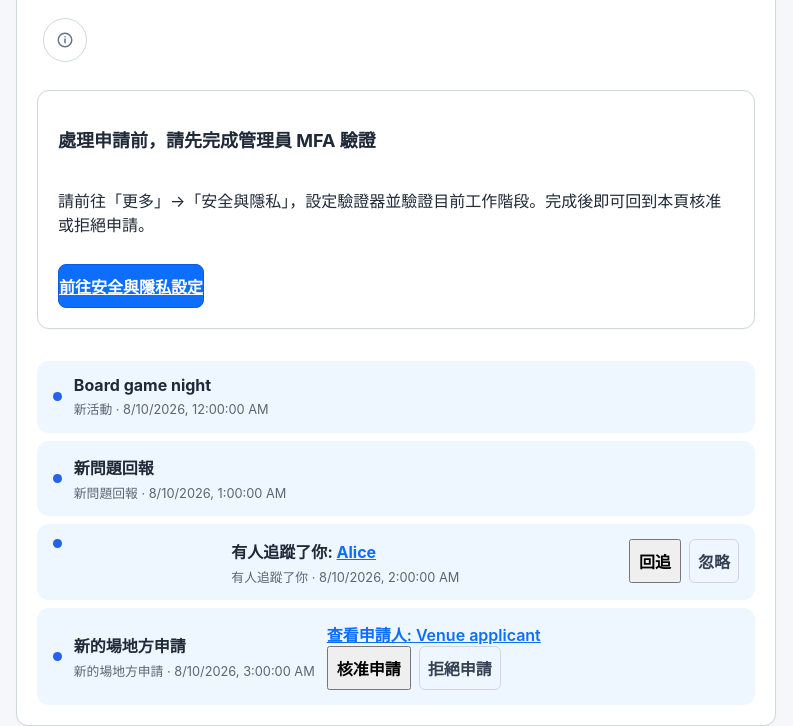
Scenario: NotificationsPage › lets an admin open the applicant profile and approve the application
(page scrolled)
What coordinates should you click on to do the following:
click the button "核准申請"
I would click on:
 (369, 668)
Its box is [327, 646, 411, 690].
(page scrolled)
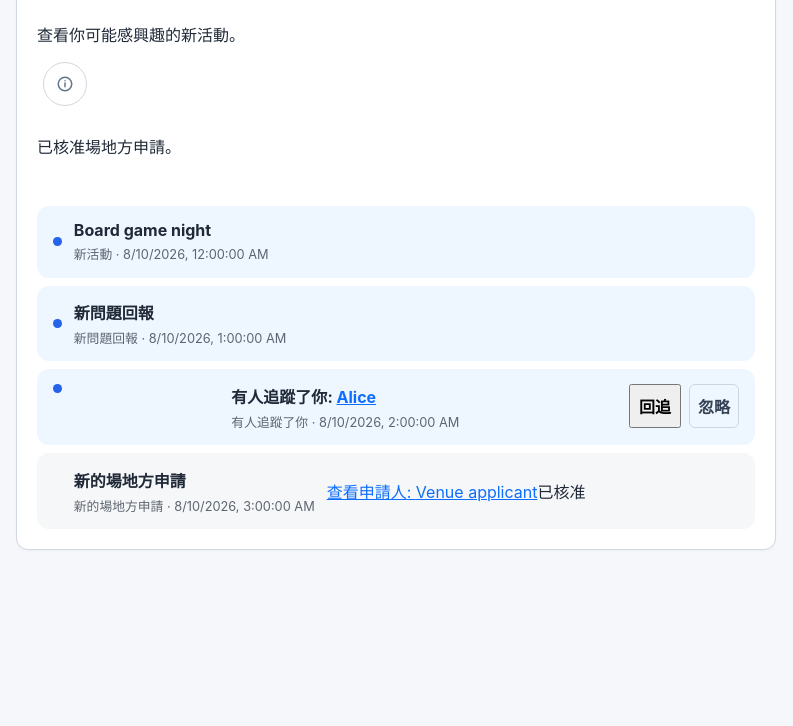
Result: the text "已核准場地方申請。" is shown at [37, 137, 181, 157]
Result: the button "核准申請" is gone
